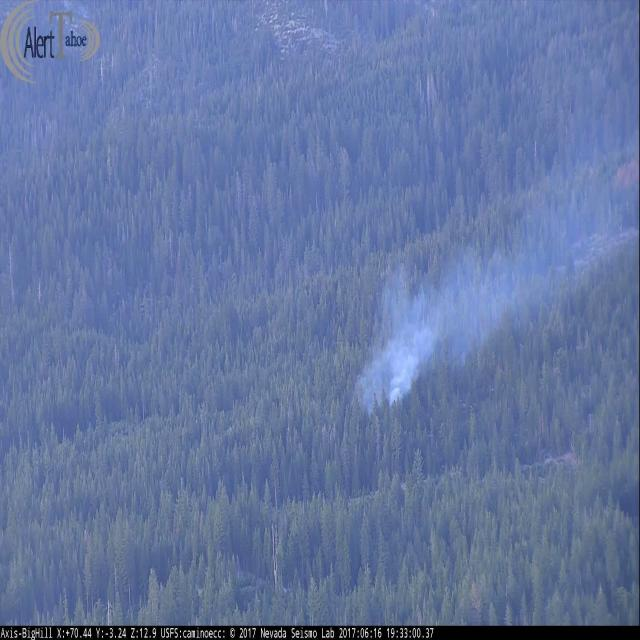smoke: (353, 82, 640, 411)
